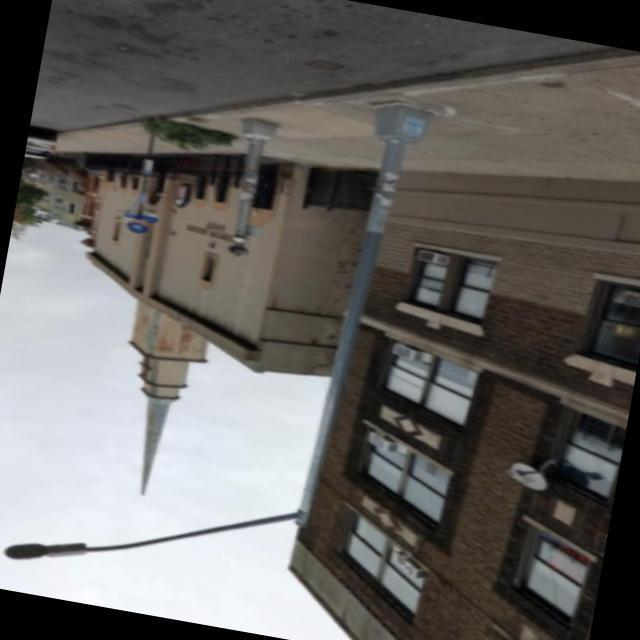off: (2, 518, 121, 575)
